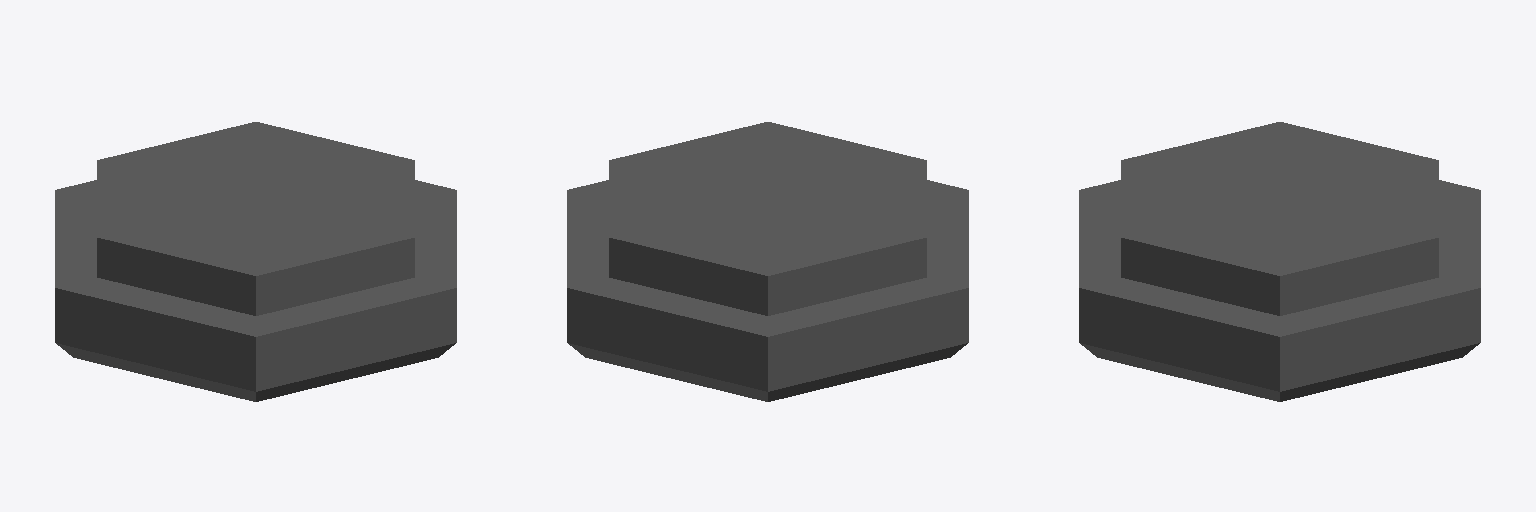
The model's file is input.obj.
3 renders of one model, left to right at view 1: azimuth 30°, elevation 25°; view 2: azimuth 150°, elevation 25°; view 3: azimuth 270°, elevation 25°, orthographic.
Parts seen in each view (by area): view 1: input; view 2: input; view 3: input.
Part boxes in pixels (bbox=[...]): input: bbox=[55, 122, 456, 401]; input: bbox=[567, 122, 968, 401]; input: bbox=[1079, 122, 1480, 401].
Bounding box in the file's own units: 0.02 × 0.0054 × 0.0173.